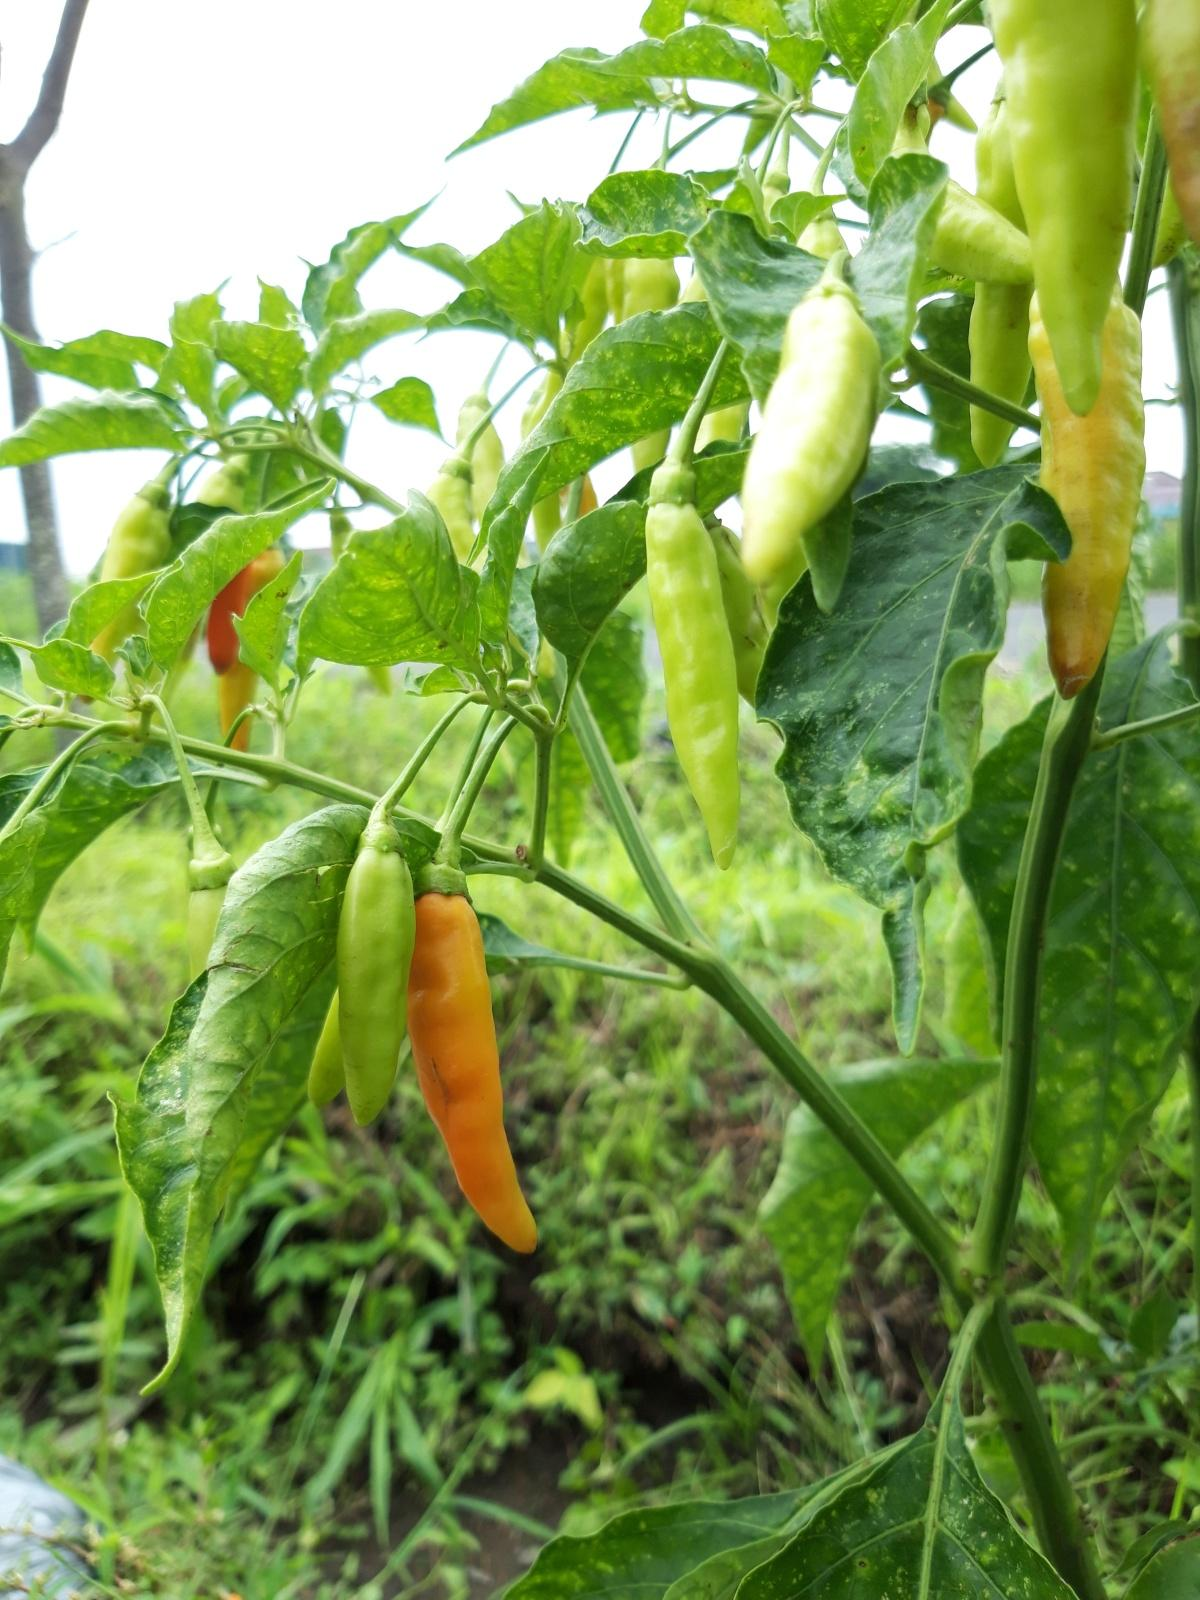cabai_normal: (991, 1, 1138, 416), (408, 879, 538, 1257), (744, 299, 884, 583), (644, 501, 742, 873), (889, 103, 1036, 289), (967, 98, 1029, 470), (337, 849, 416, 1126), (76, 488, 165, 671), (619, 258, 682, 470), (453, 406, 504, 527), (422, 472, 476, 582), (207, 549, 248, 675)
lalat_buah: (1029, 292, 1143, 700), (1138, 8, 1200, 253)
